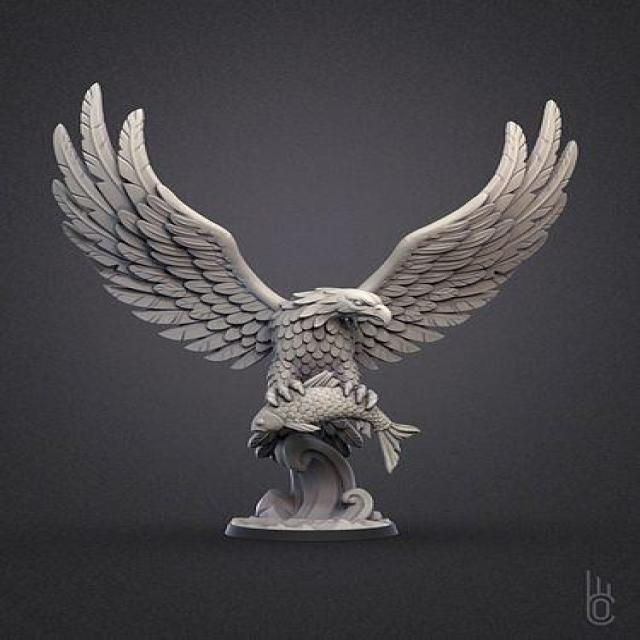Without deffect: (47, 71, 585, 548)
